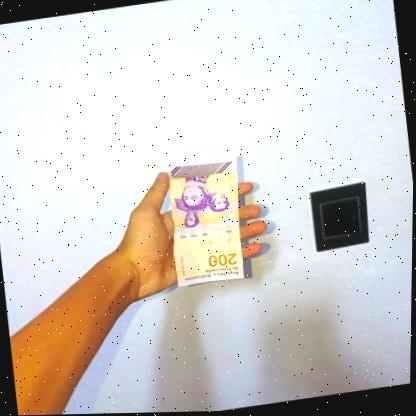two_hundred-front-vef: (162, 152, 251, 289)
